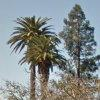Palm tree: (15, 10, 67, 99)
